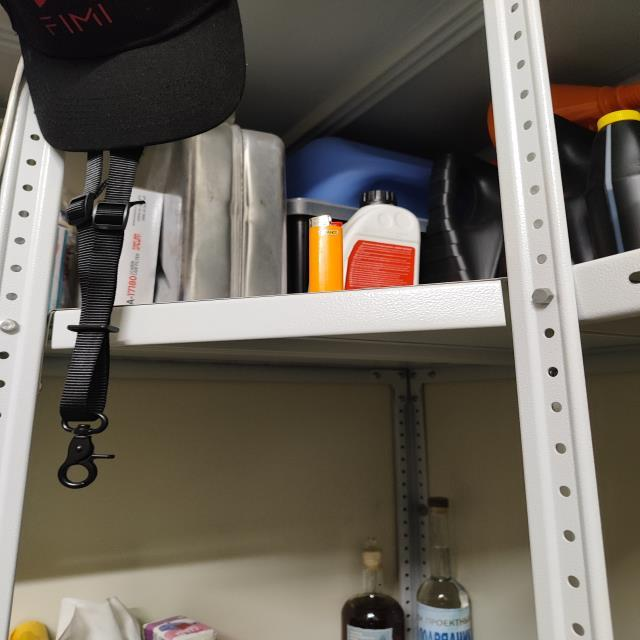lighter: (308, 214, 343, 291)
